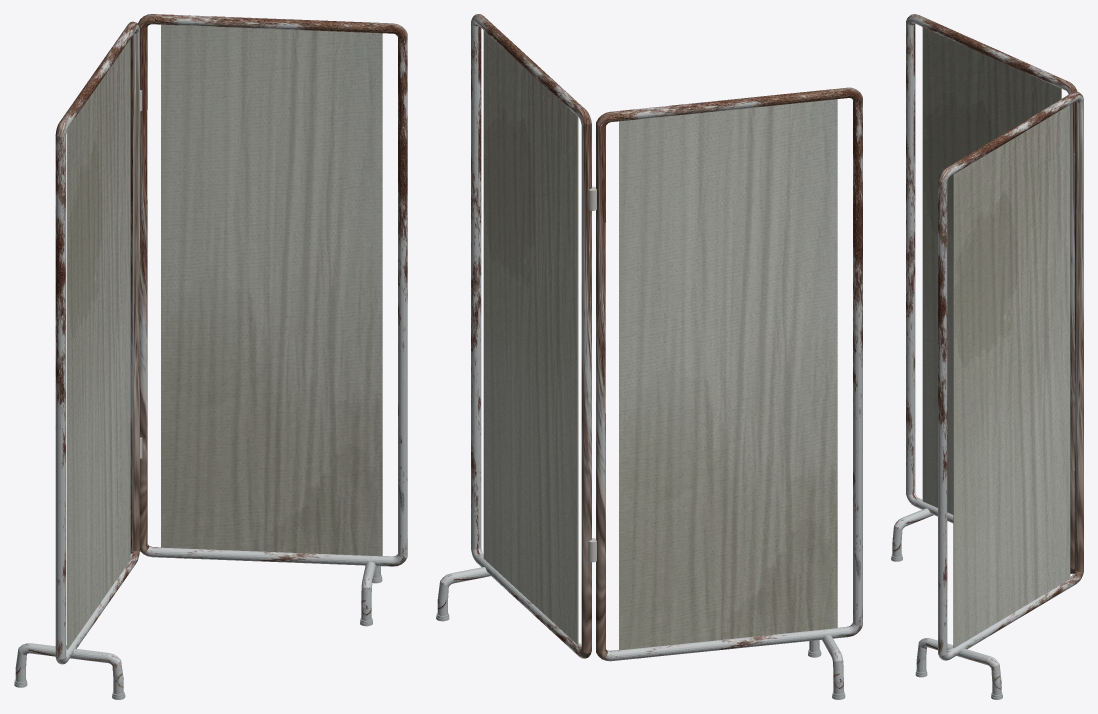
File: privacy_screen.glb
The picture shows the model from 3 angles, left to right: view 1: azimuth 30°, elevation 25°; view 2: azimuth 150°, elevation 25°; view 3: azimuth 270°, elevation 25°; orthographic projection. The views are drawn at different scales.
Visible parts, largest first — view 1: divider1:pCylinder3; view 2: divider1:pCylinder3; view 3: divider1:pCylinder3.
Part boxes in pixels (bbox=[...]): divider1:pCylinder3: bbox=[14, 14, 407, 699]; divider1:pCylinder3: bbox=[436, 14, 862, 699]; divider1:pCylinder3: bbox=[891, 14, 1083, 699].
Bounding box in the file's own units: 1.15 × 1.65 × 0.5495.
3 materials, 2 textured.
